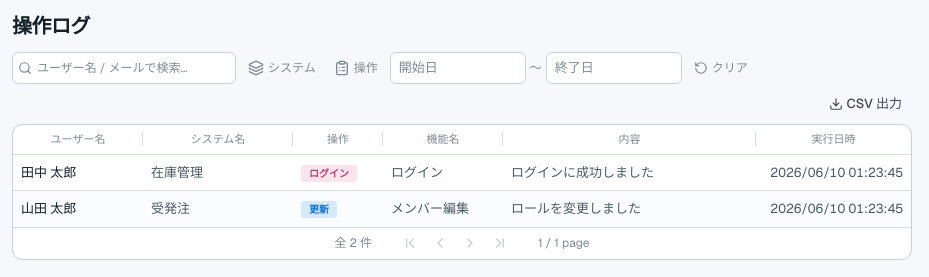
AuditLogScreen › システムフィルタの選択肢に契約システム + 共通操作を出す
This screenshot has width=929, height=277.
// mdl-0026: チップを開いて listbox の候補を検証する。
What coordinates should you click on to do the following:
click the button with aria-label "システムで絞り込み"
I would click on:
 (282, 68)
Its box is [242,53,322,83].
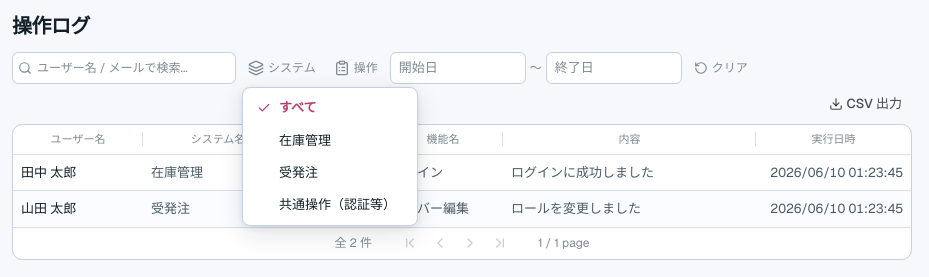
Now the option "在庫管理" is shown, box [279,132,331,149]
Now the option "受発注" is shown, box [279,164,318,181]
Now the option "共通操作（認証等）" is shown, box [279,196,396,213]
